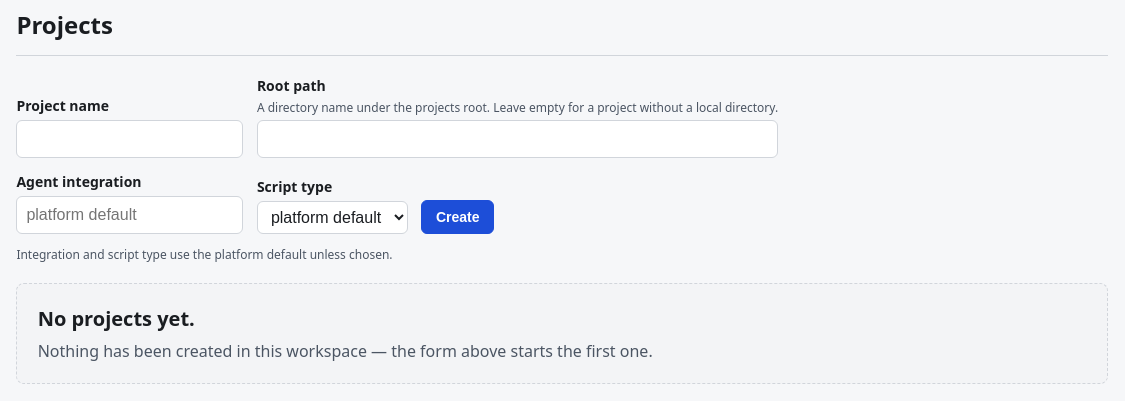
Test case: ProjectsPage · create › creates a project and refreshes the list
Expected: the text "No projects yet." is shown, [38,305,195,333]
Type "New one" into the field labelled "Project name" at (130, 139), box [16,120,243,158]
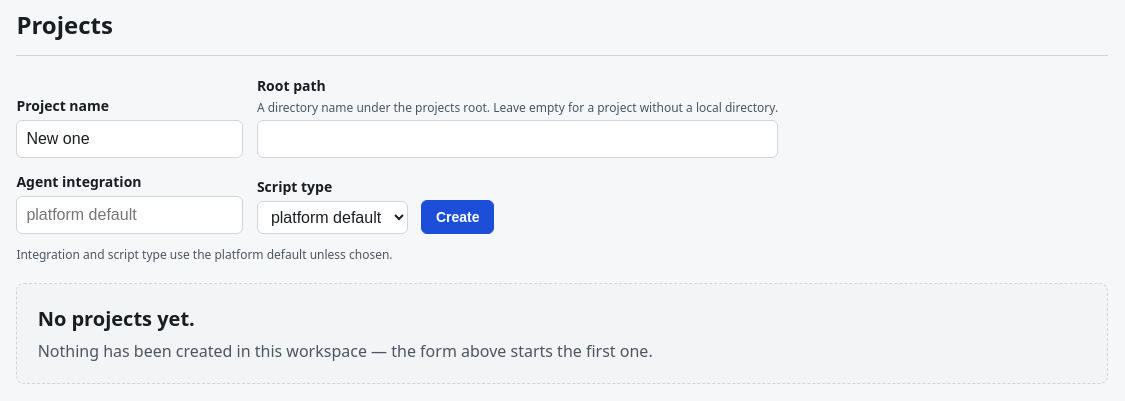
Click the button "Create" at (458, 217), box [421,200,494,234]
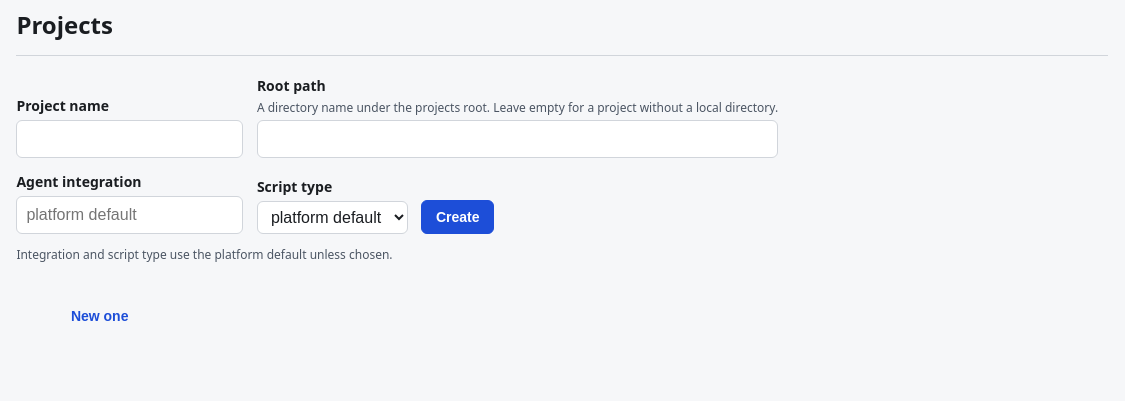
Expected: the button "New one" is shown, [56,299,143,333]
